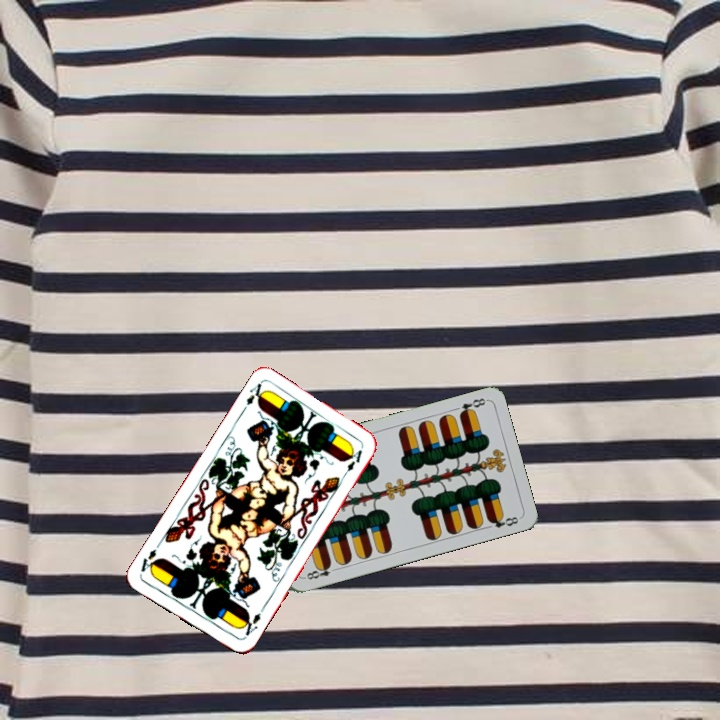E8: (301, 560, 341, 582), (455, 394, 489, 419)
EA: (237, 379, 268, 416), (237, 604, 267, 641)
